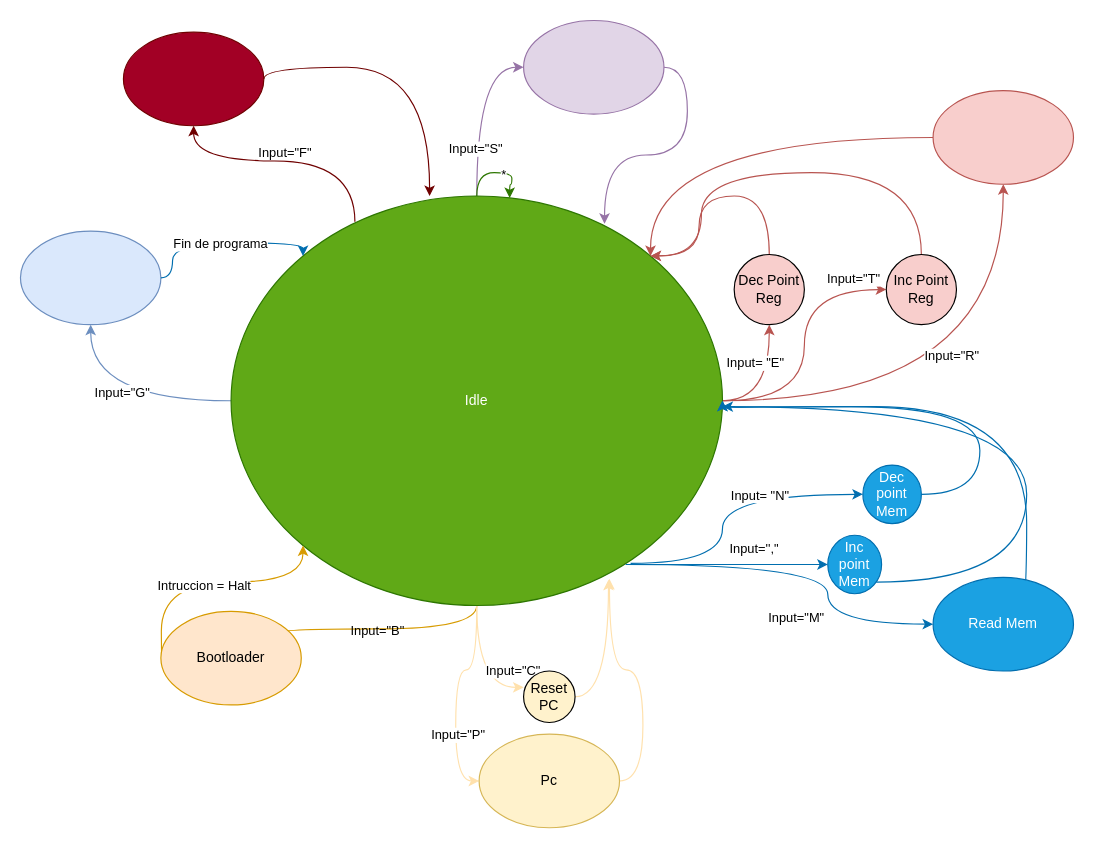
The diagram is 1094 pixels wide and 848 high, and some of its shapes have lost their labels. The centre of each missing label's shape, as x and y in pixels:
Flush programa: (x=193, y=78)
Next: (x=593, y=66)
Read Reg: (x=1002, y=137)
Run: (x=90, y=277)
